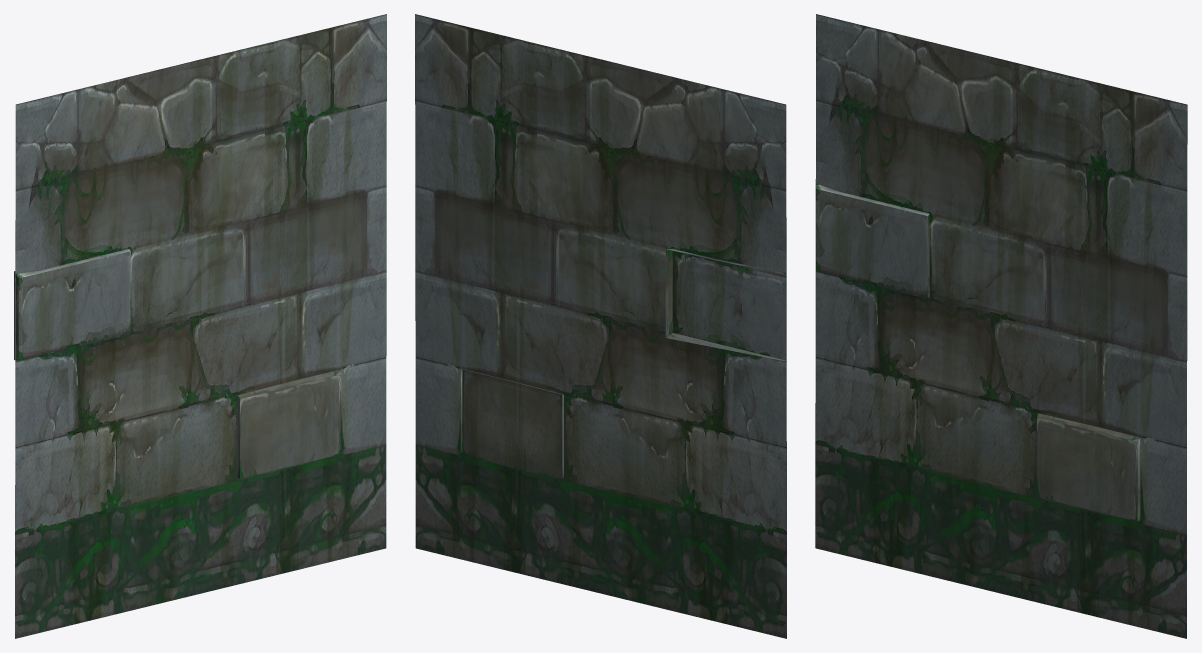
Rendered from stemple_wall_straight_shadow_10.fbx.
3 renders of one model, left to right at view 1: azimuth 30°, elevation 25°; view 2: azimuth 150°, elevation 25°; view 3: azimuth 330°, elevation 25°, orthographic.
Visible parts, largest first — view 1: obj2.014; view 2: obj2.014; view 3: obj2.014.
Boxes of the visible parts, bbox=[...] form: obj2.014: bbox=[14, 14, 386, 638]; obj2.014: bbox=[415, 14, 786, 638]; obj2.014: bbox=[815, 14, 1187, 638].
Size of the model in its own units: 4.01 by 5.5 by 0.1653.
